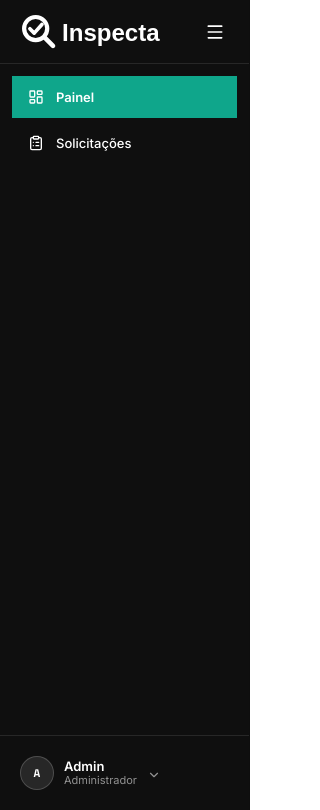
Sidebar › bloco de perfil do usuário › abre o menu com acesso ao perfil e sair, sem navegar de imediato
This screenshot has width=320, height=810.
Check: the text "Sair" is not shown
Click the button "A admin Administrador" at (124, 773), box [12,748,237,798]
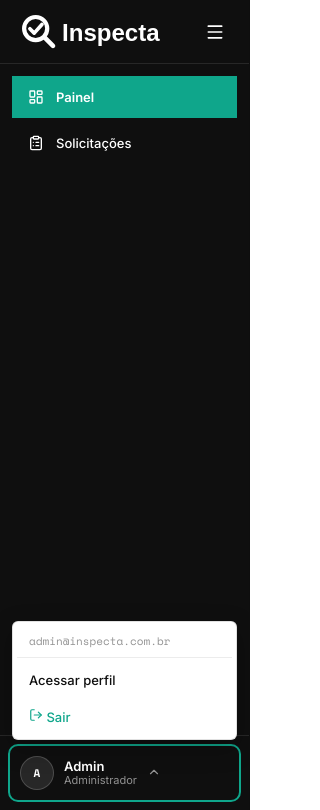
Check: the text "admin@inspecta.com.br" is shown, box [17,626,232,658]
Check: the menu item "Acessar perfil" is shown, box [17,662,232,698]
Check: the menu item "Sair" is shown, box [17,698,232,735]
